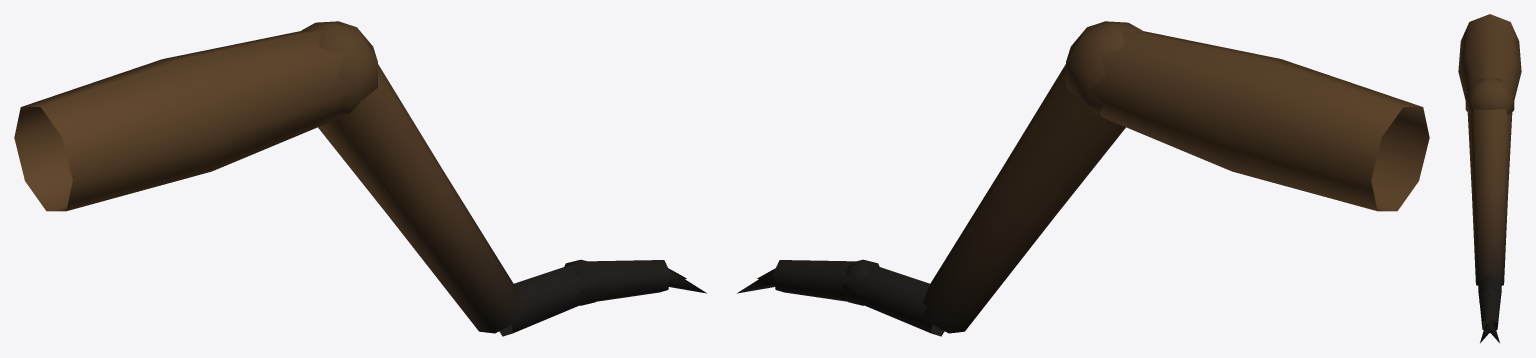
Rendered from Higurashi_Leg2.fbx.
The picture shows the model from 3 angles, left to right: view 1: azimuth 30°, elevation 25°; view 2: azimuth 150°, elevation 25°; view 3: azimuth 270°, elevation 25°; orthographic projection. The views are drawn at different scales.
Parts seen in each view (by area): view 1: Higurashi_Leg2; view 2: Higurashi_Leg2; view 3: Higurashi_Leg2.
Boxes of the visible parts, left/top/right/bottom form: Higurashi_Leg2: left=14, top=21, right=706, bottom=336; Higurashi_Leg2: left=737, top=21, right=1429, bottom=336; Higurashi_Leg2: left=1458, top=14, right=1521, bottom=343.
Size of the model in its own units: 0.3888 by 0.201 by 0.0648.
